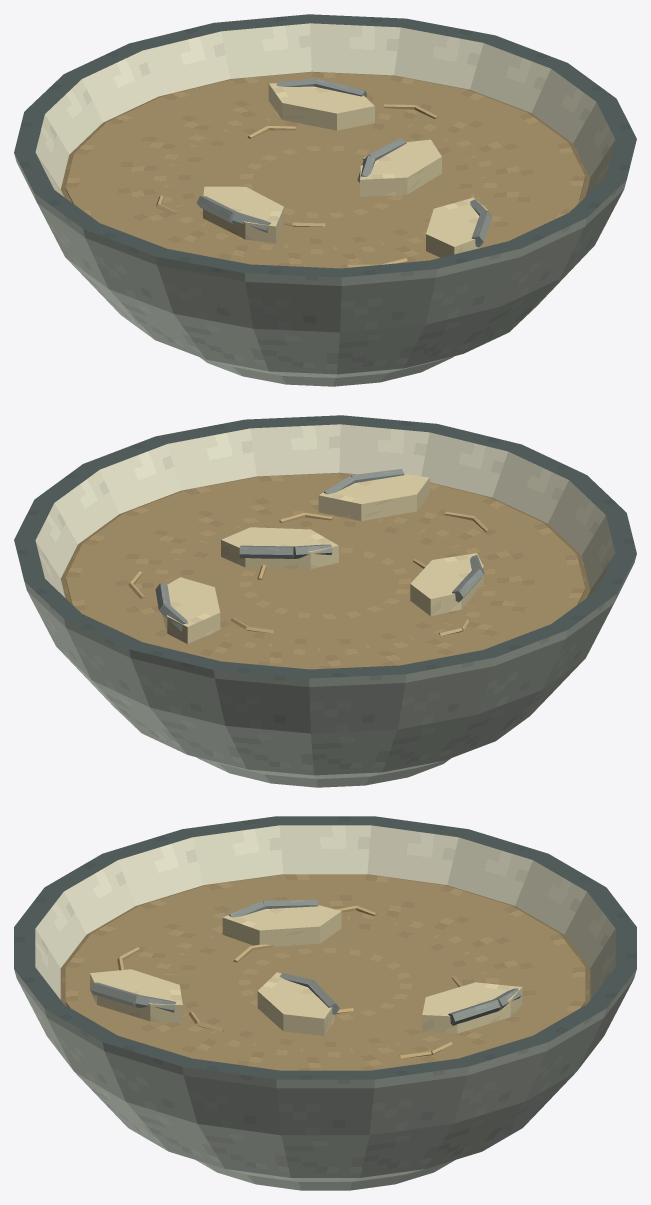
File: soup_fish.glb
3 renders of one model, top to bottom at view 1: azimuth 30°, elevation 25°; view 2: azimuth 150°, elevation 25°; view 3: azimuth 270°, elevation 25°, orthographic.
Parts seen in each view (by area): view 1: block_deep open soup bowl, block_soup surface, block_pale fish fillet (×4), block_shaded liquid meniscus; view 2: block_deep open soup bowl, block_soup surface, block_pale fish fillet (×4), block_shaded liquid meniscus, block_silvery skin edge 1; view 3: block_deep open soup bowl, block_soup surface, block_pale fish fillet (×4), block_shaded liquid meniscus, block_silvery skin edge 1 (×2).
Boxes of the visible parts, bbox=[...] form: block_deep open soup bowl: bbox=[14, 14, 636, 386]; block_soup surface: bbox=[65, 72, 585, 268]; block_pale fish fillet (×4): bbox=[203, 83, 487, 257]; block_shaded liquid meniscus: bbox=[60, 71, 589, 202]; block_deep open soup bowl: bbox=[14, 415, 636, 787]; block_soup surface: bbox=[65, 473, 585, 669]; block_pale fish fillet (×4): bbox=[162, 474, 483, 643]; block_shaded liquid meniscus: bbox=[61, 472, 590, 603]; block_silvery skin edge 1: bbox=[239, 545, 293, 558]; block_deep open soup bowl: bbox=[14, 816, 636, 1190]; block_soup surface: bbox=[65, 874, 585, 1070]; block_pale fish fillet (×4): bbox=[90, 905, 522, 1035]; block_shaded liquid meniscus: bbox=[60, 874, 590, 1006]; block_silvery skin edge 1 (×2): bbox=[90, 982, 500, 1025].
Size of the model in its own units: 0.1437 by 0.0455 by 0.1437.
1 material, 1 textured.
